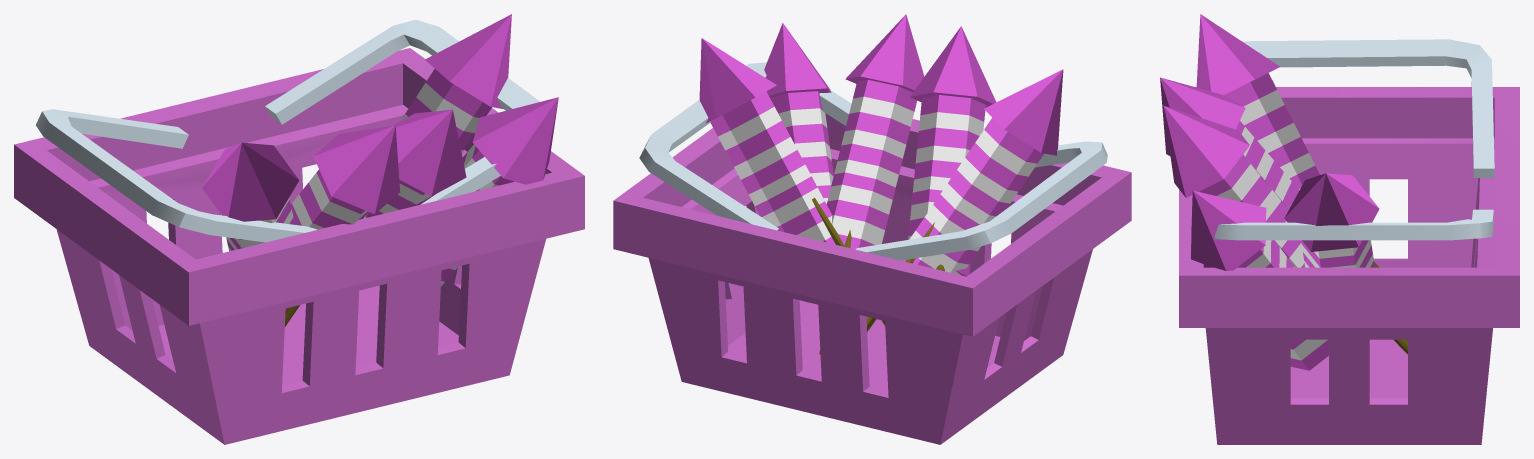
The model's file is FireworkCart.fbx.
The picture shows the model from 3 angles, left to right: view 1: azimuth 30°, elevation 25°; view 2: azimuth 150°, elevation 25°; view 3: azimuth 270°, elevation 25°; orthographic projection. The views are drawn at different scales.
Visible parts, largest first — view 1: polySurface16; view 2: polySurface16; view 3: polySurface16.
Part boxes in pixels (x1=…): polySurface16: x1=14, y1=14, x2=584, y2=444; polySurface16: x1=613, y1=14, x2=1131, y2=444; polySurface16: x1=1160, y1=14, x2=1519, y2=444.
Bounding box in the file's own units: 14.8 × 10.7 × 11.67.
